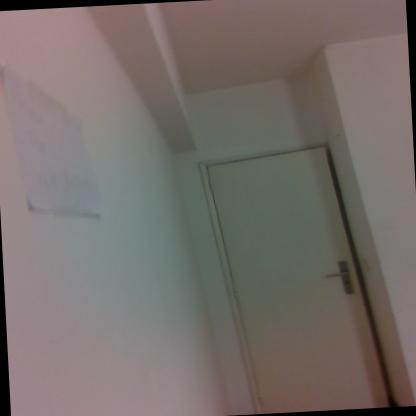closed: (179, 127, 390, 412)
